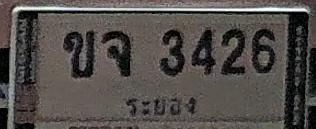2: (221, 28, 245, 74)
3: (160, 28, 184, 75)
4: (192, 28, 215, 74)
6: (252, 28, 275, 73)
A02: (64, 30, 94, 77)
A08: (102, 30, 131, 76)
RYG: (123, 94, 201, 120)
